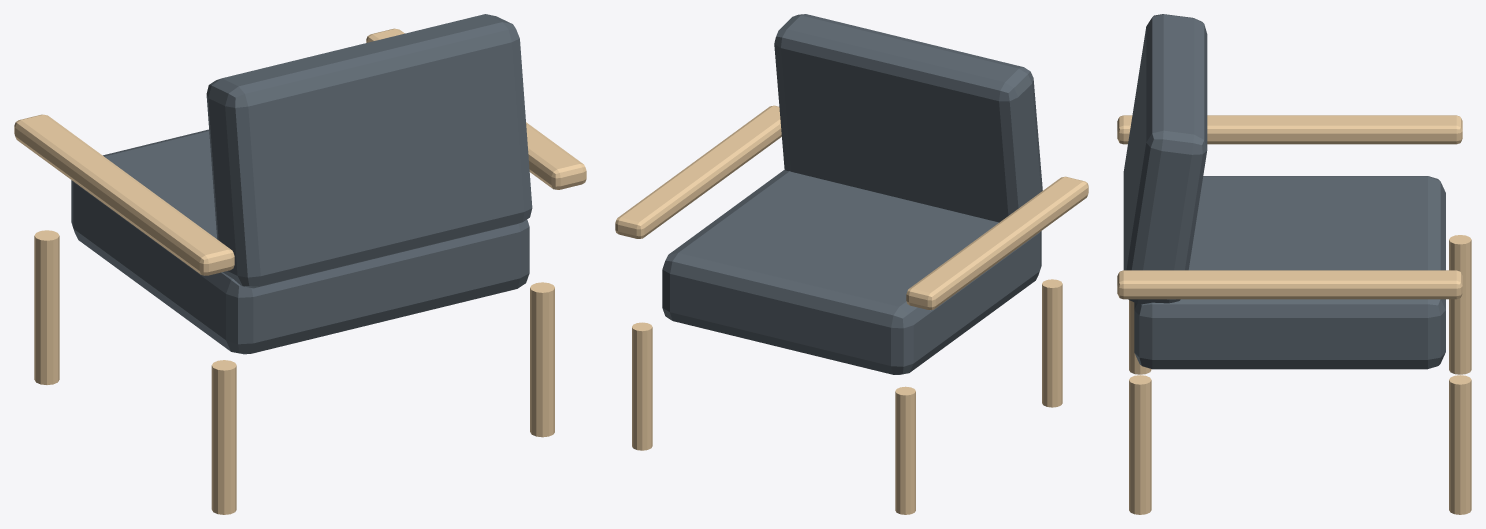
Rendered from ai.chair-lounge.glb.
3 renders of one model, left to right at view 1: azimuth 30°, elevation 25°; view 2: azimuth 150°, elevation 25°; view 3: azimuth 270°, elevation 25°, orthographic. The views are drawn at different scales.
Visible parts, largest first — view 1: Hero_Asset; view 2: Hero_Asset; view 3: Hero_Asset.
Boxes of the visible parts, x1,y1,x2,y2 form: Hero_Asset: (14, 14, 586, 514); Hero_Asset: (615, 14, 1088, 514); Hero_Asset: (1117, 14, 1471, 514).
Bounding box in the file's own units: 0.7745 × 0.78 × 0.6815.
